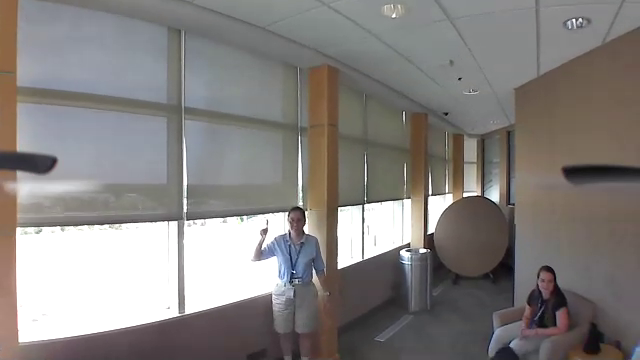up: (254, 216, 274, 243)
